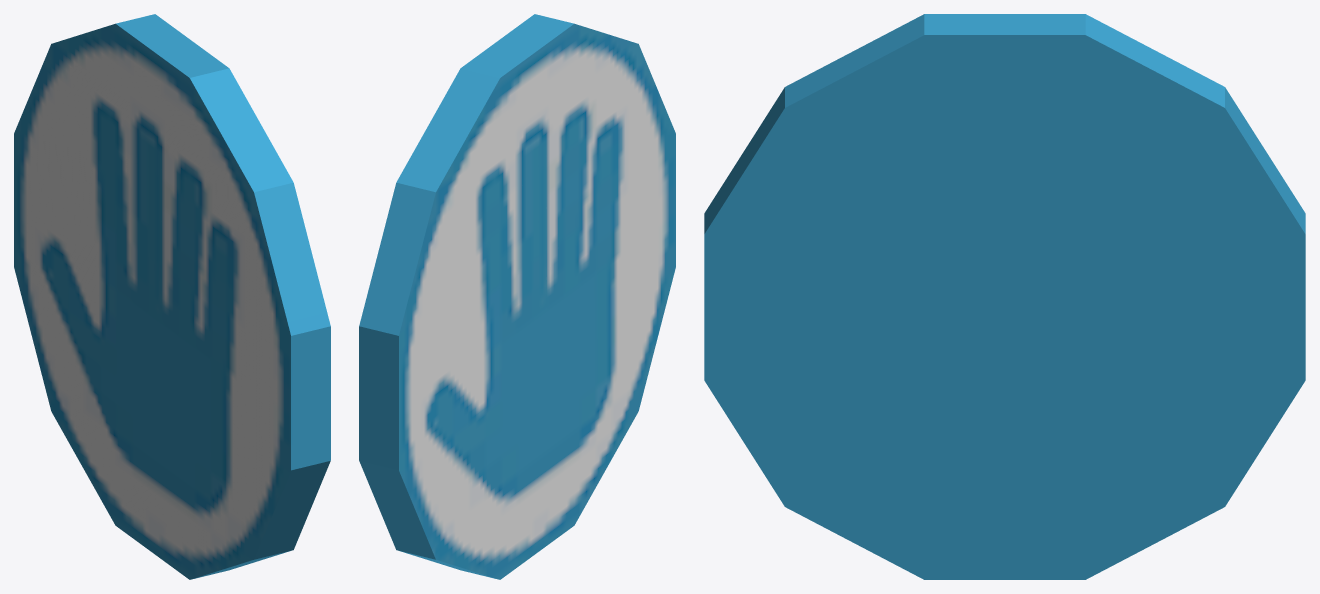
File: BluePaperIcon.fbx
The picture shows the model from 3 angles, left to right: view 1: azimuth 30°, elevation 25°; view 2: azimuth 150°, elevation 25°; view 3: azimuth 270°, elevation 25°; orthographic projection. The views are drawn at different scales.
Visible parts, largest first — view 1: Cylinder; view 2: Cylinder; view 3: Cylinder.
Boxes of the visible parts, x1,y1,x2,y2 form: Cylinder: (14, 14, 330, 579); Cylinder: (359, 14, 675, 579); Cylinder: (704, 14, 1305, 579).
Bounding box in the file's own units: 48.3 × 48.3 × 4.
